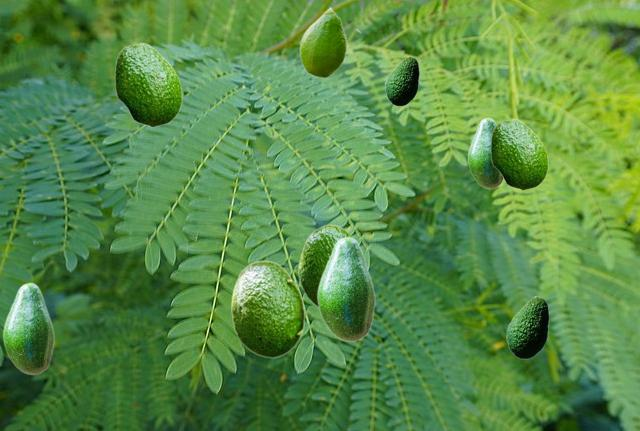avocado: (230, 260, 304, 357), (316, 236, 374, 341), (114, 42, 181, 126), (2, 282, 53, 374), (298, 224, 352, 307), (490, 118, 547, 189), (299, 6, 346, 77), (506, 296, 548, 358), (467, 117, 503, 188), (385, 56, 418, 105)
